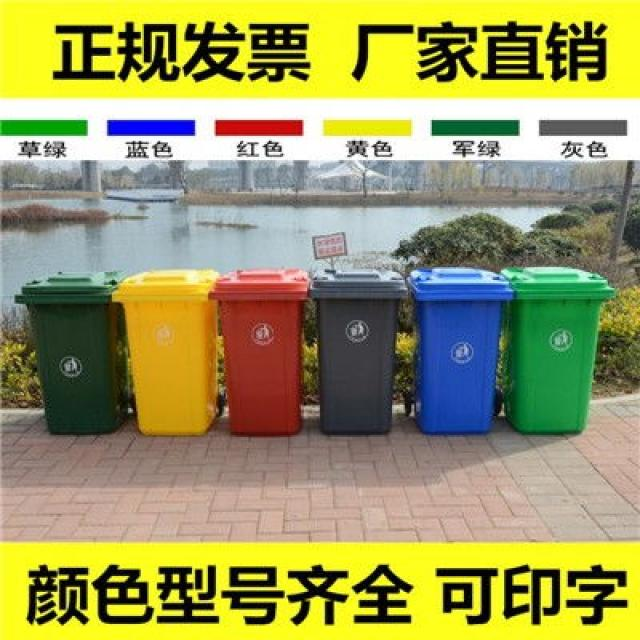garbage_bin: (13, 269, 125, 435), (499, 266, 611, 432), (403, 266, 514, 432), (110, 267, 218, 434), (208, 267, 309, 435), (307, 267, 403, 434)
